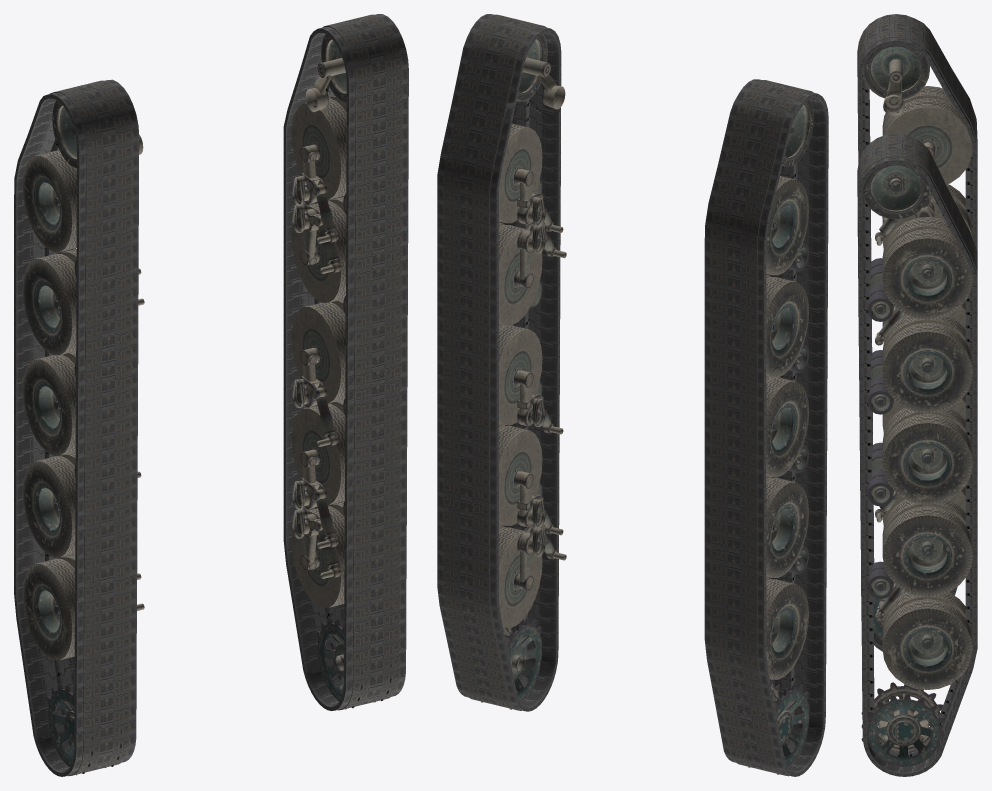
The model's file is Chassis.glb.
3 views of the same model, side by side, from view 1: azimuth 30°, elevation 25°; view 2: azimuth 150°, elevation 25°; view 3: azimuth 270°, elevation 25° (orthographic). The views are drawn at different scales.
Parts seen in each view (by area): view 1: set_1_group_0, set_0_group_0, set_3_group_0, set_2_group_0; view 2: set_1_group_0, set_0_group_0, set_3_group_0, set_2_group_0; view 3: set_3_group_0, set_0_group_0, set_2_group_0, set_1_group_0.
Boxes of the visible parts, bbox=[...] form: set_1_group_0: bbox=[14, 79, 139, 776]; set_0_group_0: bbox=[283, 14, 408, 710]; set_3_group_0: bbox=[291, 34, 391, 709]; set_2_group_0: bbox=[22, 100, 144, 775]; set_1_group_0: bbox=[704, 79, 828, 776]; set_0_group_0: bbox=[437, 14, 561, 711]; set_3_group_0: bbox=[470, 34, 566, 709]; set_2_group_0: bbox=[737, 99, 813, 774]; set_3_group_0: bbox=[861, 163, 972, 766]; set_0_group_0: bbox=[857, 133, 977, 776]; set_2_group_0: bbox=[862, 44, 972, 640]; set_1_group_0: bbox=[857, 14, 977, 651].
Bounding box in the file's own units: 3.31 × 6.55 × 1.15.
Materials: 4 (4 with a texture image).
